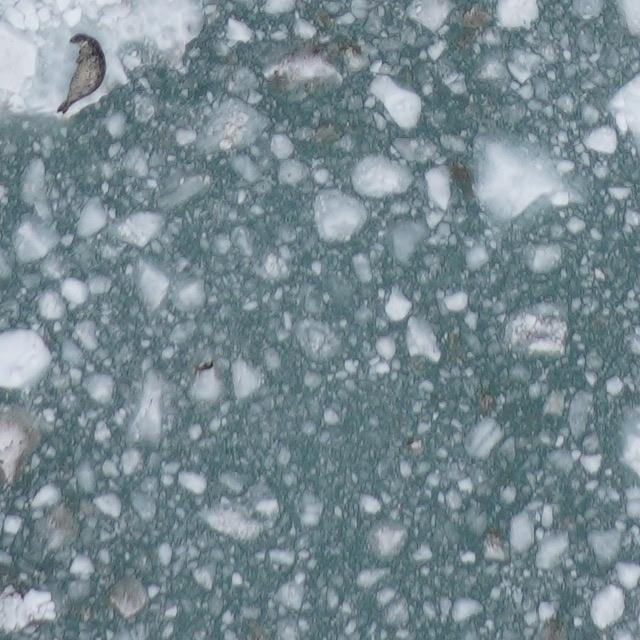seal: (55, 31, 108, 118)
